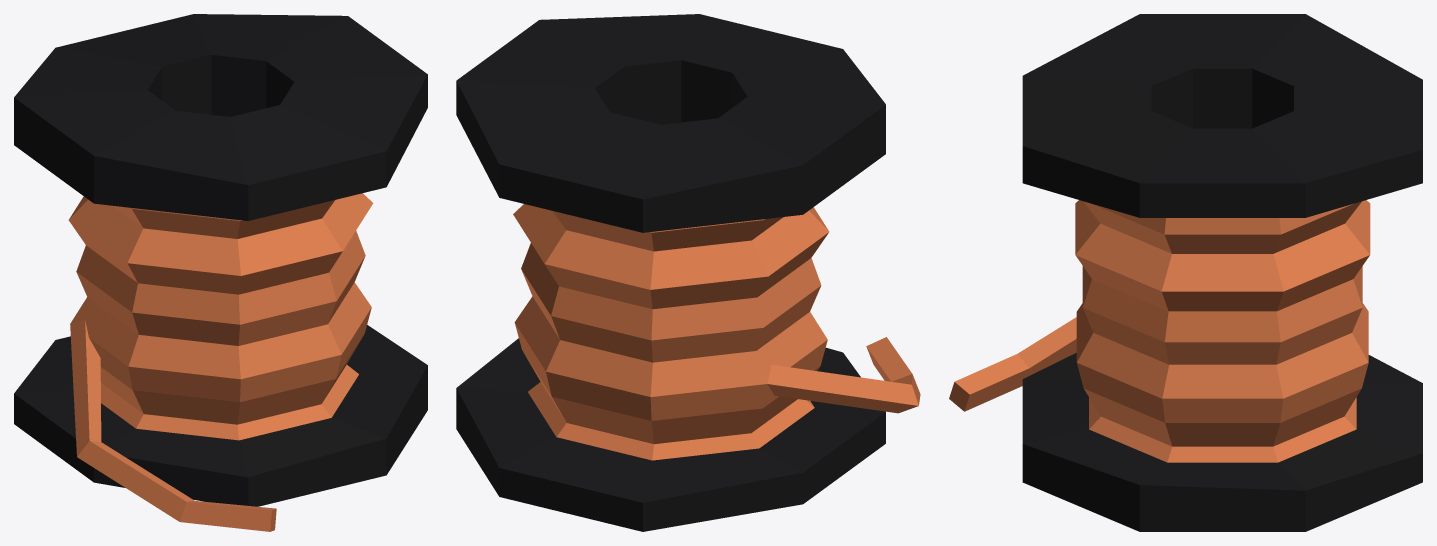
Rendered from SM_Copper_Coil.fbx.
3 renders of one model, left to right at view 1: azimuth 30°, elevation 25°; view 2: azimuth 150°, elevation 25°; view 3: azimuth 270°, elevation 25°, orthographic. The views are drawn at different scales.
Visible parts, largest first — view 1: SM_Copper_Coil; view 2: SM_Copper_Coil; view 3: SM_Copper_Coil.
Part boxes in pixels (box(x1,y1,x2,y2)): SM_Copper_Coil: box(14, 14, 427, 531); SM_Copper_Coil: box(456, 14, 920, 531); SM_Copper_Coil: box(949, 14, 1422, 531).
Size of the model in its own units: 18.77 by 16.82 by 20.71.
